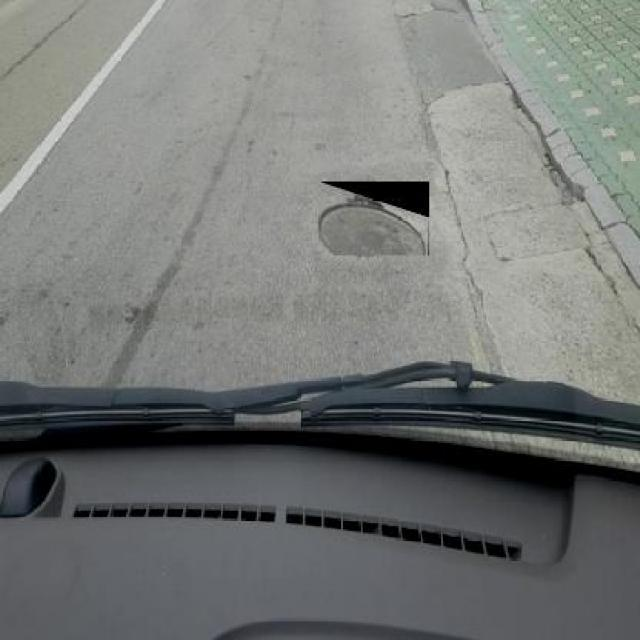Manhole: (319, 182, 430, 256)
Pothole: (542, 158, 592, 208)
